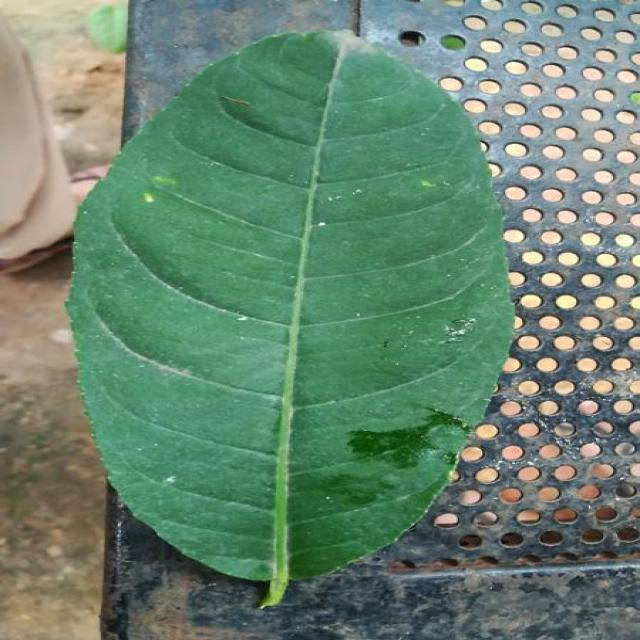badipala: (68, 32, 513, 604)
defectedbadipala: (327, 409, 469, 487)
